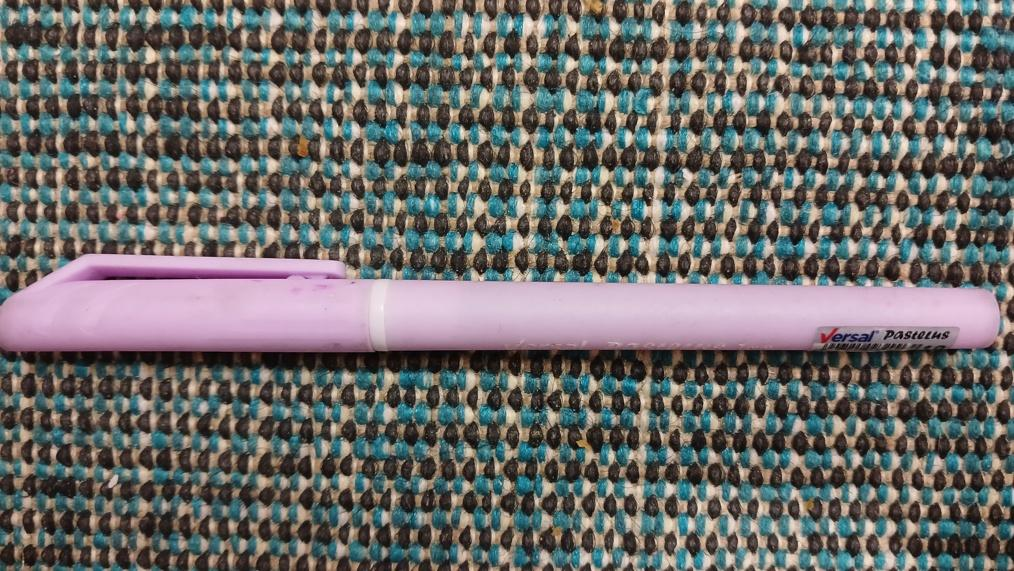pen: (0, 255, 1002, 348)
